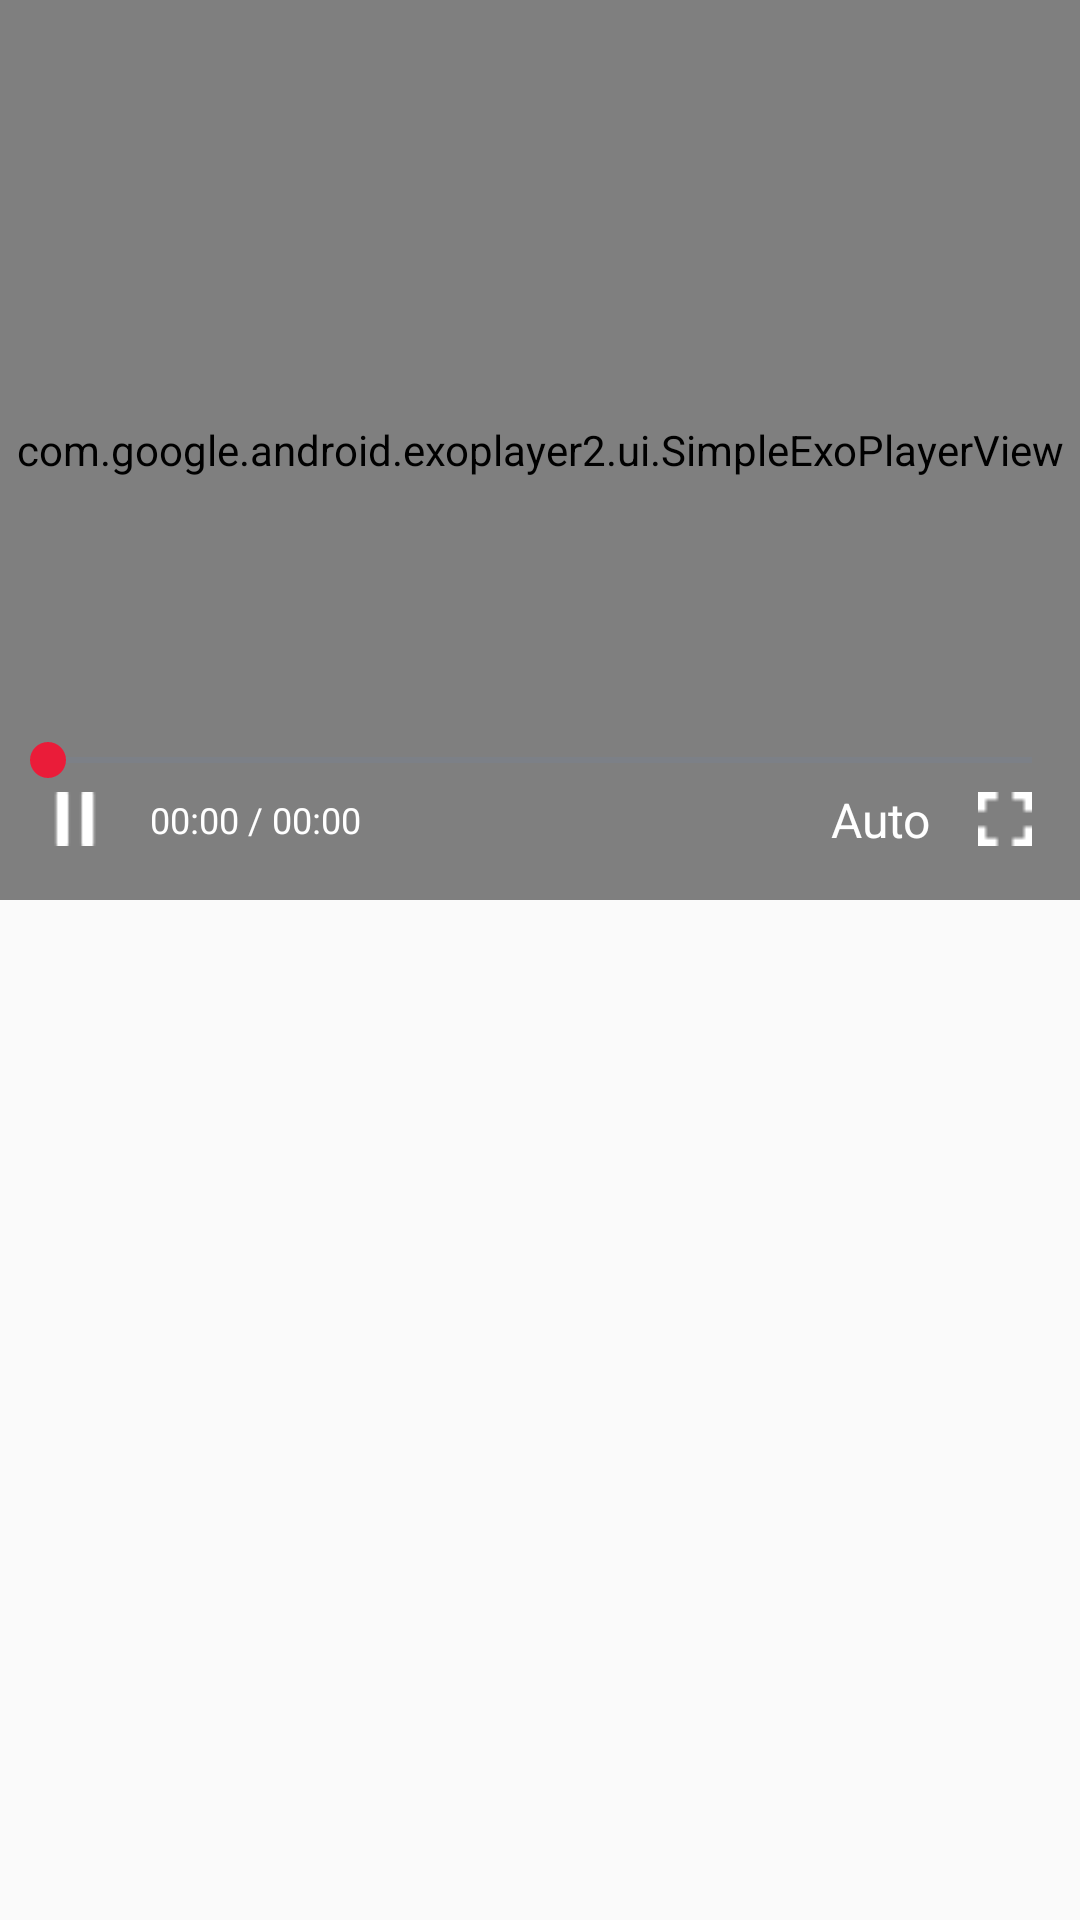

Screen size 1080px x 1920px. Icon name, then its box in pixels as (x1, y1, x2, y2):
pause: (55, 792, 95, 846)
switch full: (978, 792, 1032, 846)
